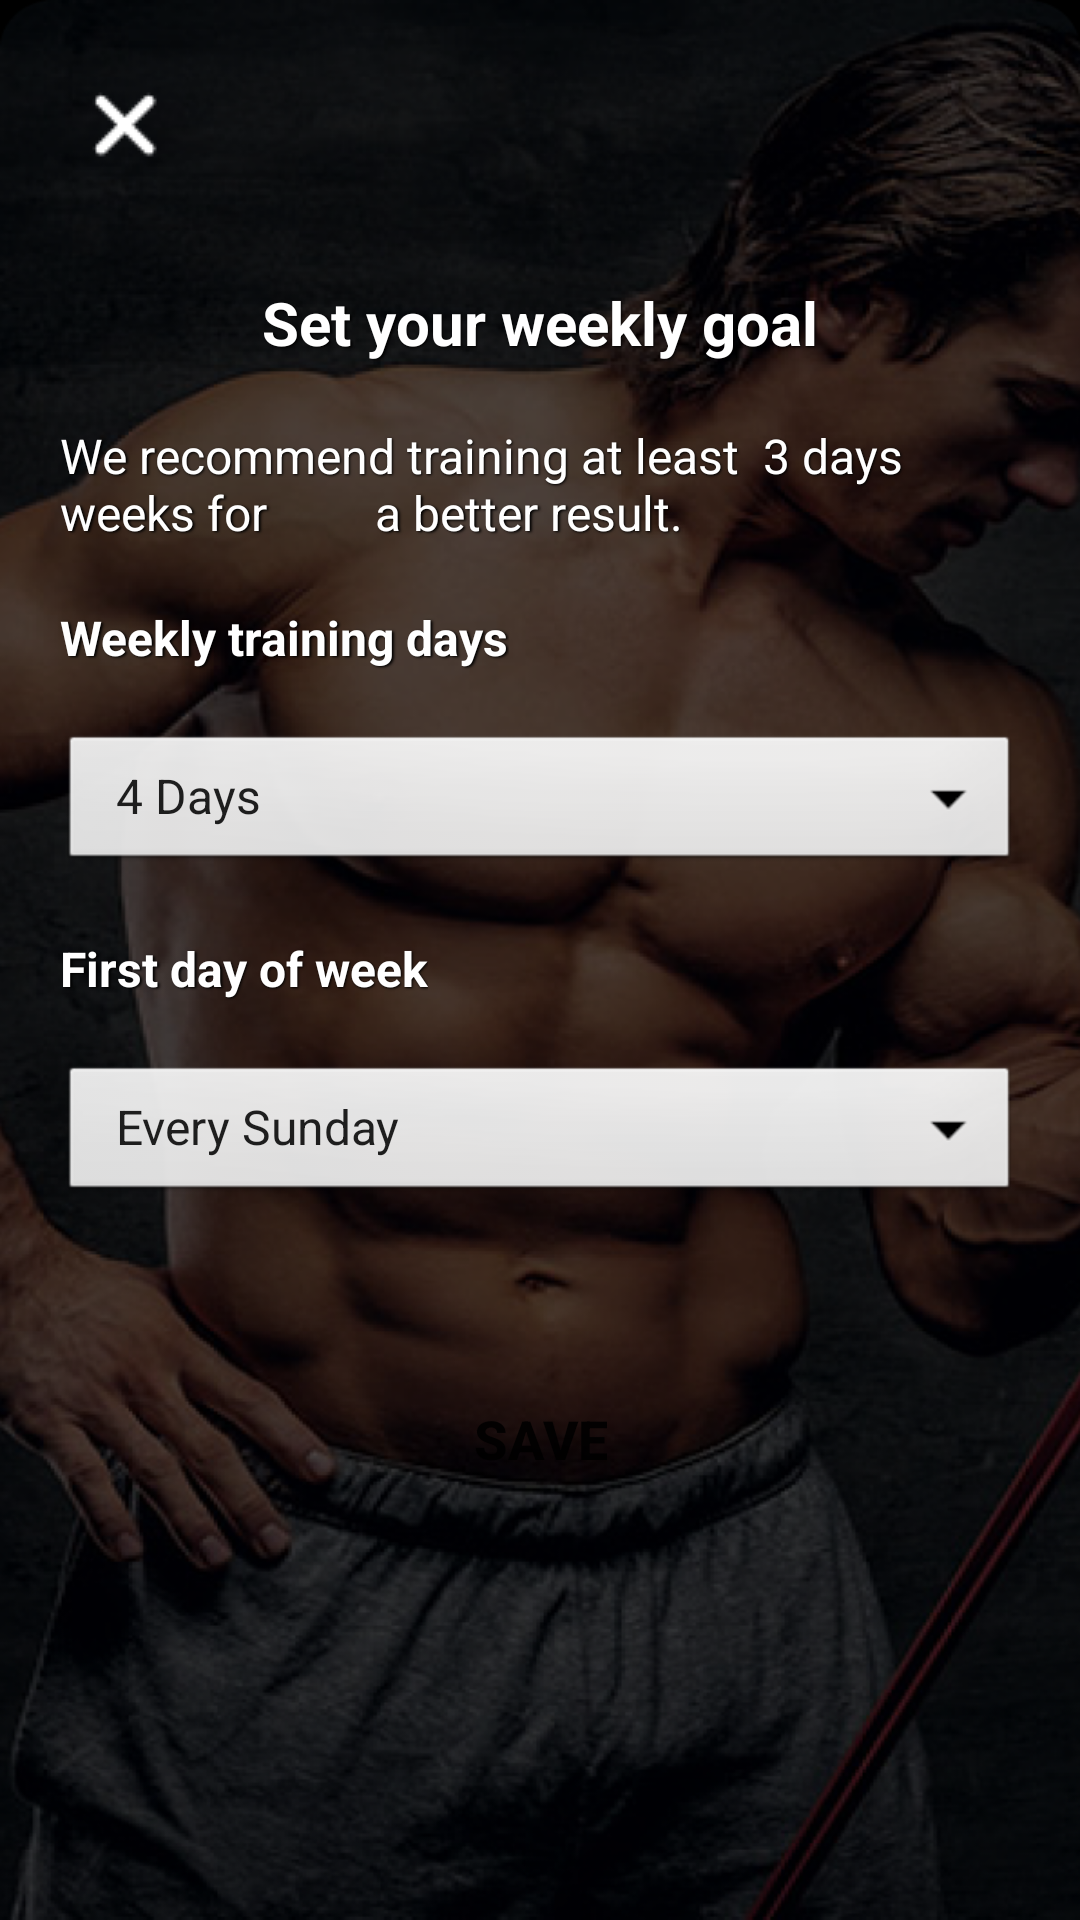

Screen size 1080w x 1920h. Icon name, then its center in pixels as (x,y):
back: (125,125)
